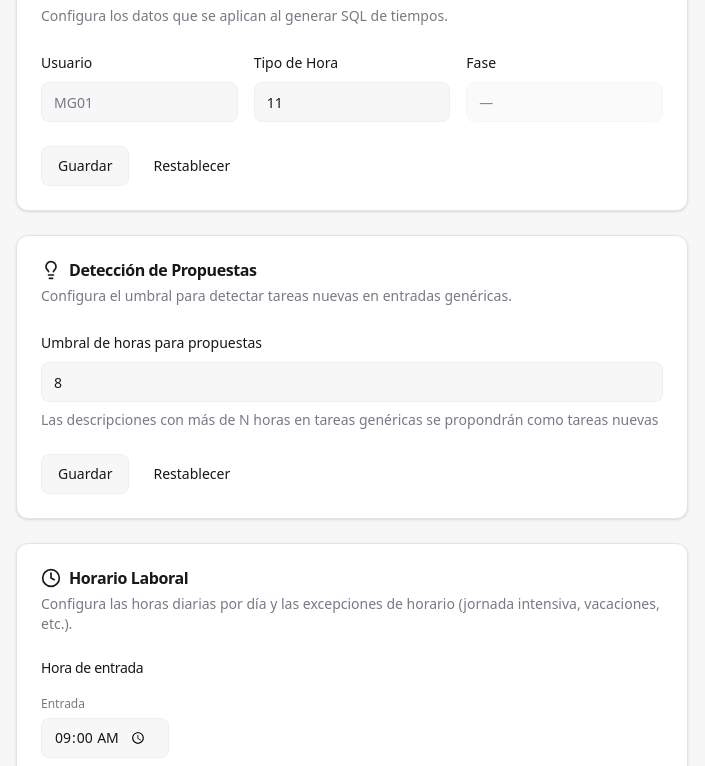
Scenario: SettingsPage - Proposal Config Section › Input validation clamps values › should clamp value to 1 when typing 0
(page scrolled)
Type "0" into the number field labelled "Umbral de horas para propuestas" at [352, 382], box 41,362 -> 663,402
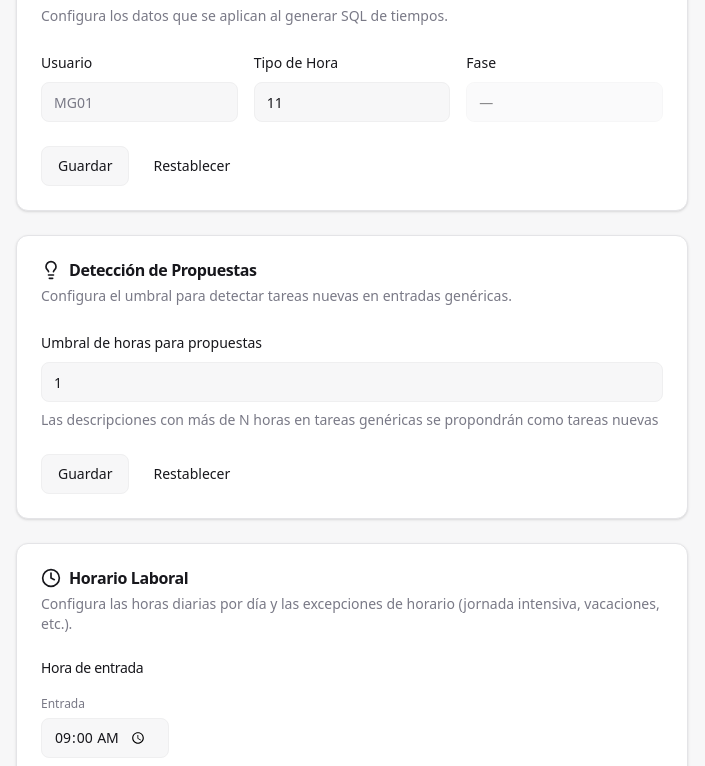
Expected: the number field labelled "Umbral de horas para propuestas" holds "1", 41,362 -> 663,402
